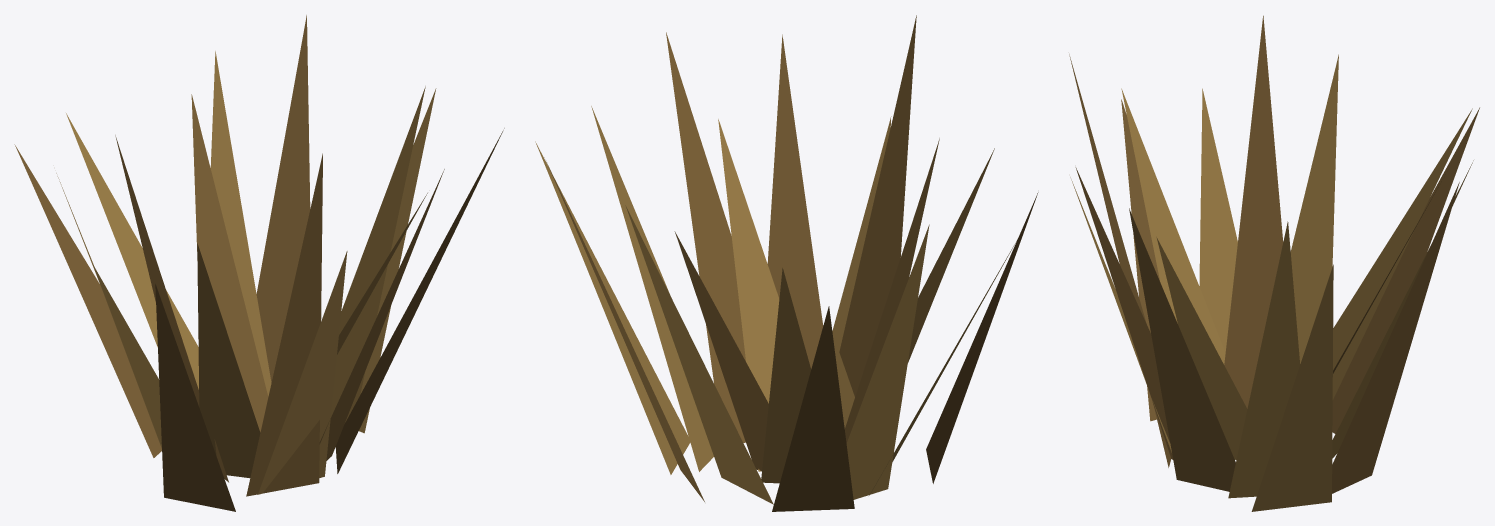
Rendered from dry_grass.glb.
3 views of the same model, side by side, from view 1: azimuth 30°, elevation 25°; view 2: azimuth 150°, elevation 25°; view 3: azimuth 270°, elevation 25° (orthographic). The views are drawn at different scales.
Parts seen in each view (by area): view 1: dry_grass2; view 2: dry_grass2; view 3: dry_grass2.
Boxes of the visible parts, <box> form: dry_grass2: <box>14,15,504,511</box>; dry_grass2: <box>535,15,1038,511</box>; dry_grass2: <box>1069,15,1479,511</box>.
Size of the model in its own units: 1.18 by 1.04 by 0.9859.
